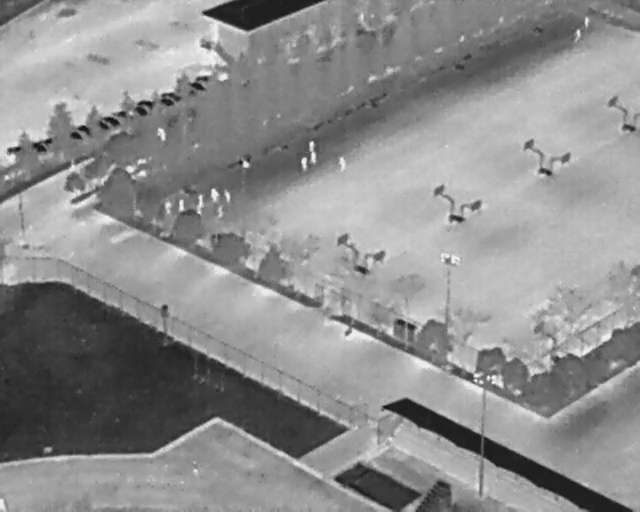Car: (5, 140, 26, 161), (160, 87, 183, 104), (29, 138, 49, 157), (103, 112, 123, 130), (187, 78, 207, 94), (94, 117, 112, 134), (75, 121, 94, 137), (133, 103, 150, 120), (41, 132, 58, 148), (67, 128, 85, 143), (158, 94, 175, 109), (114, 109, 131, 120), (138, 99, 153, 110), (196, 73, 212, 83)
Person: (195, 194, 206, 214), (163, 199, 173, 217), (190, 459, 200, 477), (176, 197, 187, 213), (209, 186, 220, 202), (338, 156, 347, 172), (67, 158, 78, 171), (223, 190, 232, 204), (301, 157, 309, 172), (574, 29, 582, 43), (308, 141, 316, 153), (311, 152, 318, 163), (585, 16, 590, 29)
